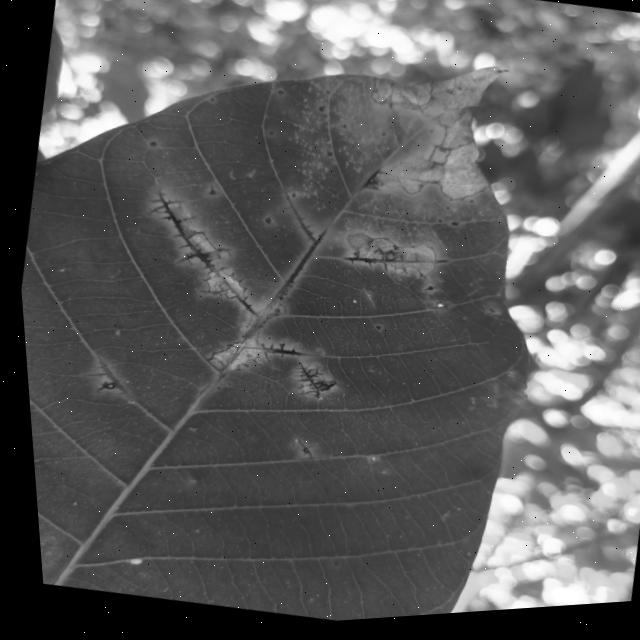Corynespora: (127, 187, 273, 325), (283, 362, 335, 409), (273, 197, 319, 248), (78, 358, 128, 402)
